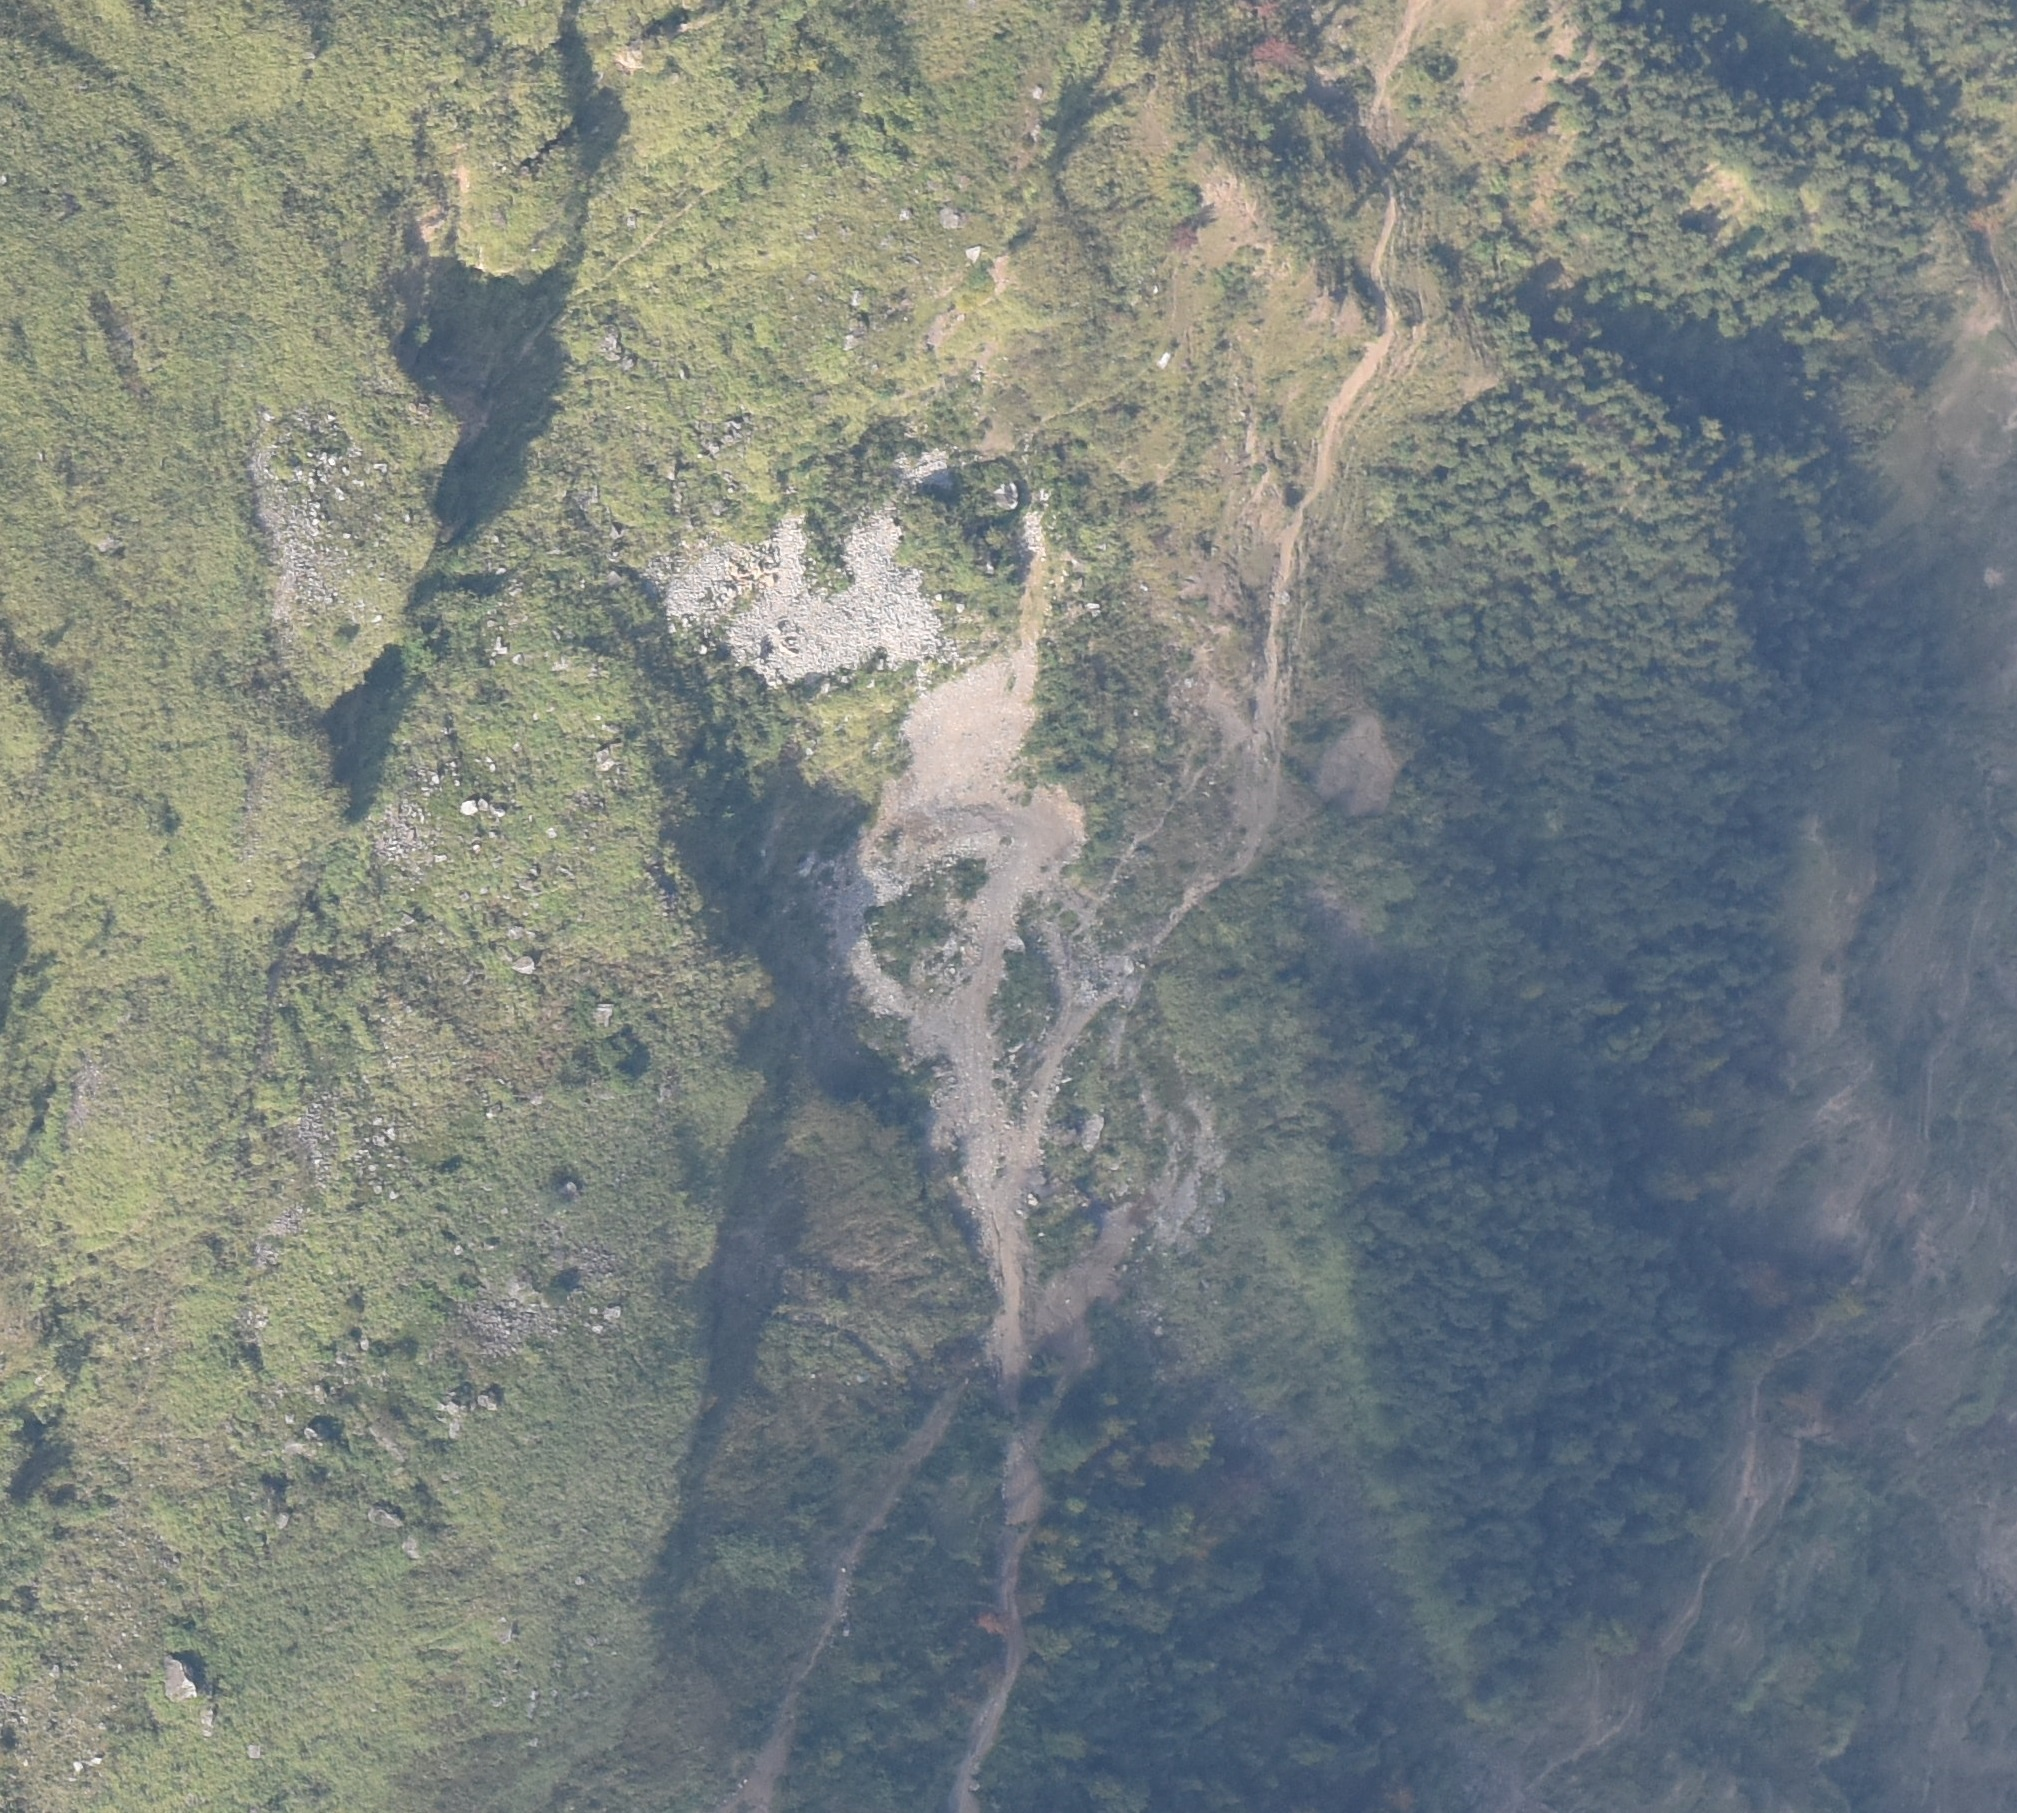quarry: (825, 654, 1108, 1218), (663, 454, 949, 689)
